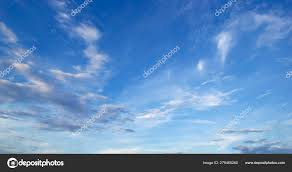sky: (2, 1, 292, 152)
